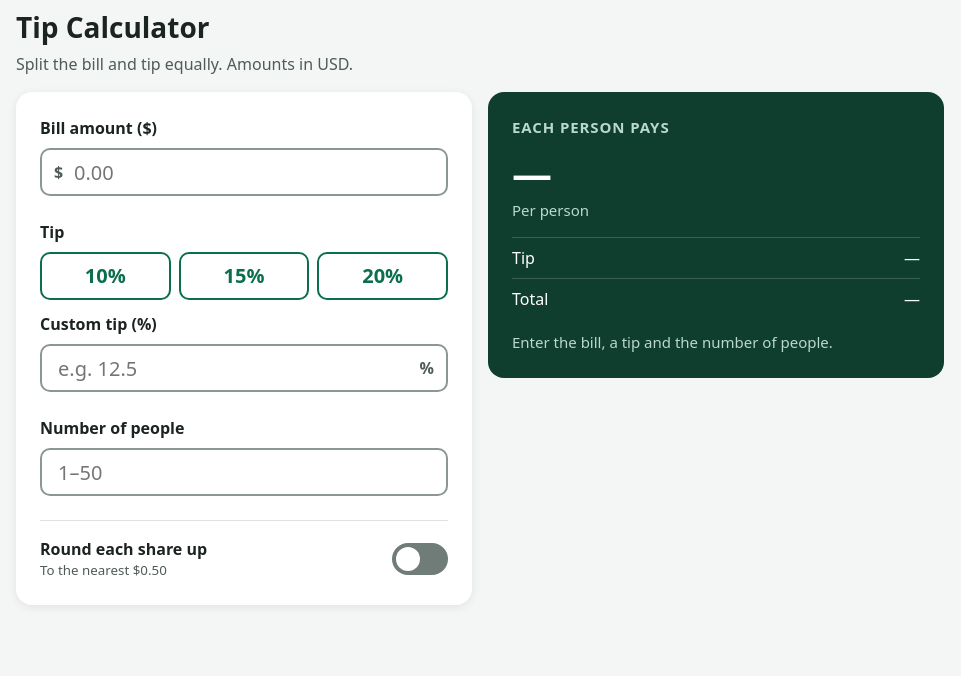
Scenario: S1: Enter the bill amount › 12.345 shows the valid-range message
The width and height of the screenshot is (961, 676).
In the field labelled "Bill amount ($)": (244, 172) [40, 148, 448, 196], type "12.345"
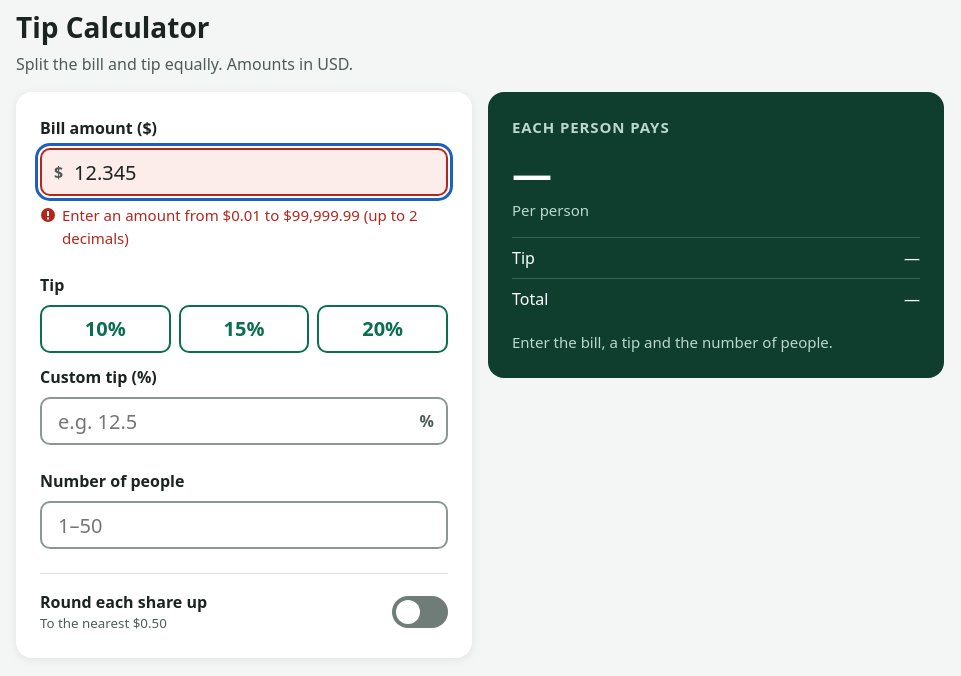
Result: the element showing "Enter an amount from $0.01 to $99,999.99 (up to 2 decimals)" is shown at [40, 204, 448, 249]
